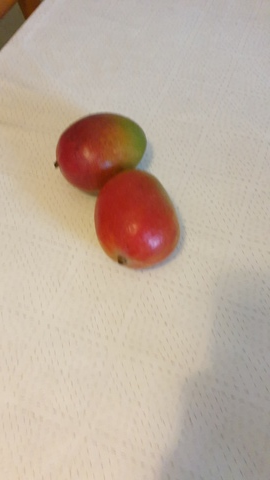Mango: (55, 113, 146, 192)
